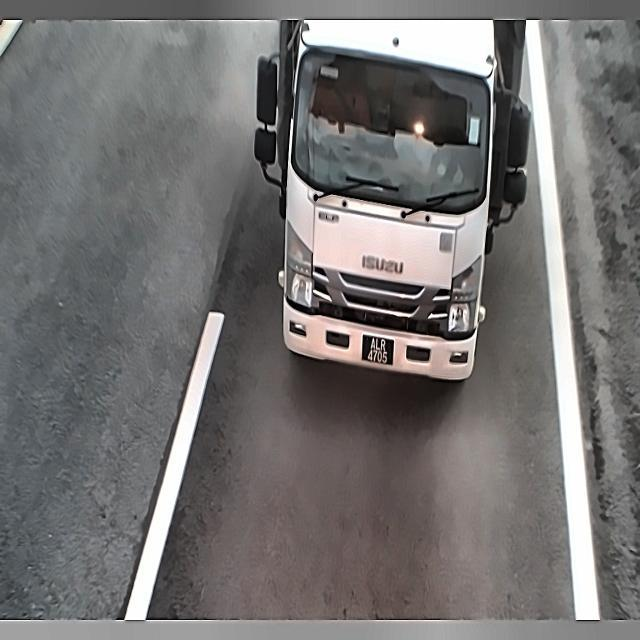car: (356, 331, 395, 373)
